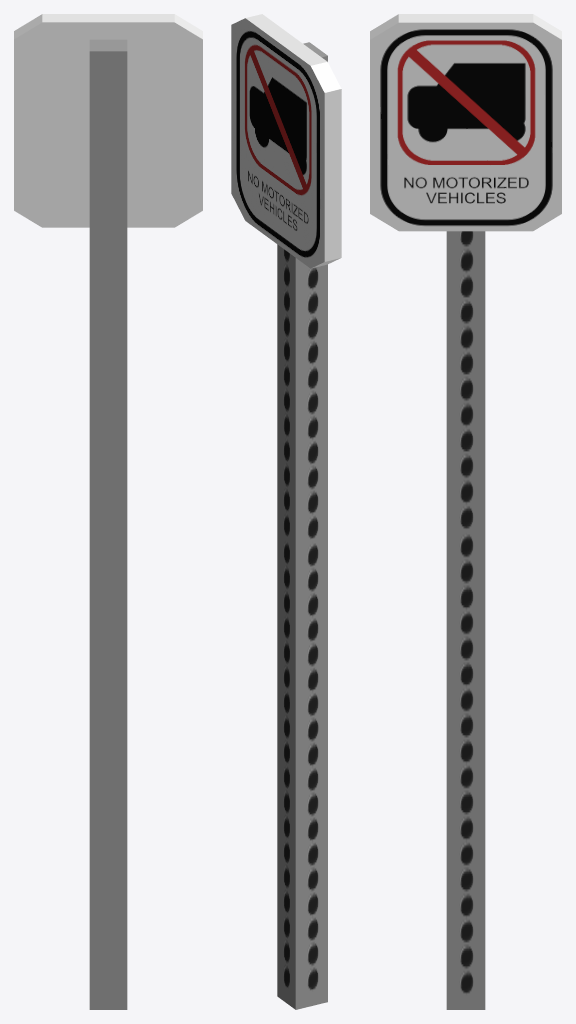
The model's file is mod_structure_roadsign.fbx.
3 views of the same model, side by side, from view 1: azimuth 90°, elevation 25°; view 2: azimuth 210°, elevation 25°; view 3: azimuth 270°, elevation 25° (orthographic). The views are drawn at different scales.
Parts seen in each view (by area): view 1: mesh_roadsign; view 2: mesh_roadsign; view 3: mesh_roadsign.
Part boxes in pixels (bbox=[...]): mesh_roadsign: bbox=[14, 14, 202, 1009]; mesh_roadsign: bbox=[231, 14, 341, 1009]; mesh_roadsign: bbox=[370, 14, 561, 1009].
Bounding box in the file's own units: 50.5 × 1140 × 200.
